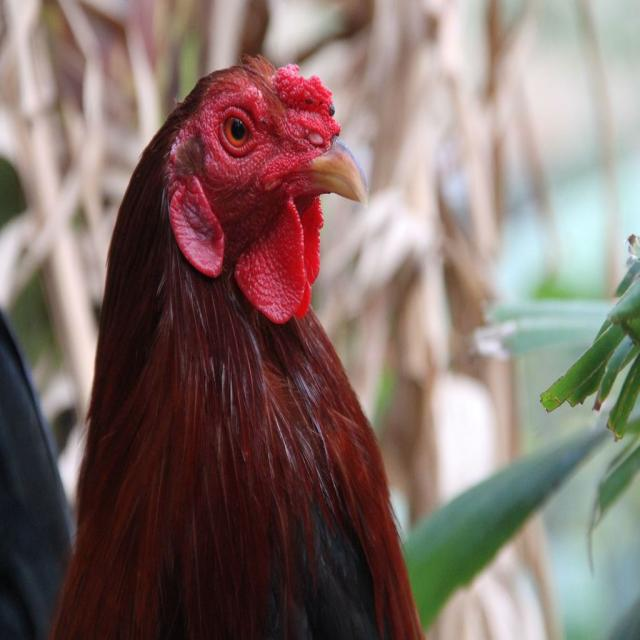Chicken: (45, 53, 426, 640)
